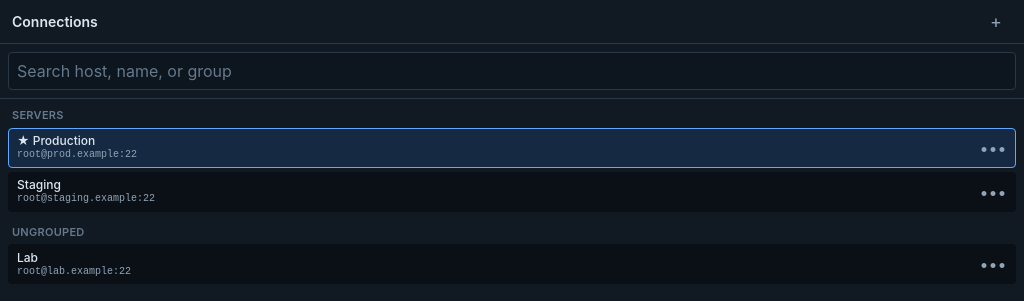
Test: ConnectionNavigator › keeps search, groups, favorites-first ordering, and compact row content
Type "lab.example" into the search field at (512,71), box [8,52,1016,90]
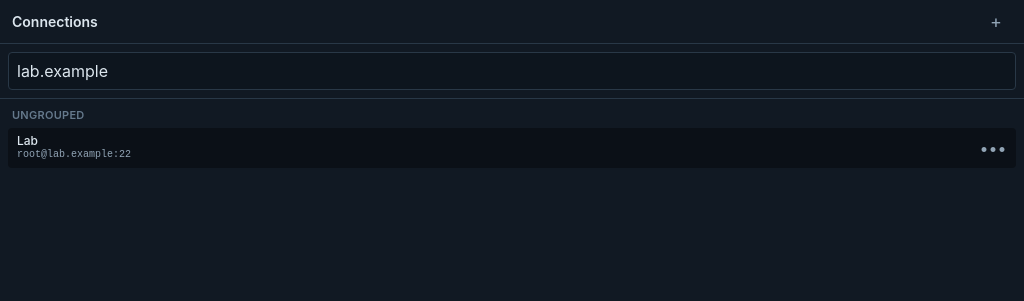
Expected: the option "Lab root@lab.example:22 •••" is shown, [8,128,1016,168]
Expected: the option "Production" is gone
